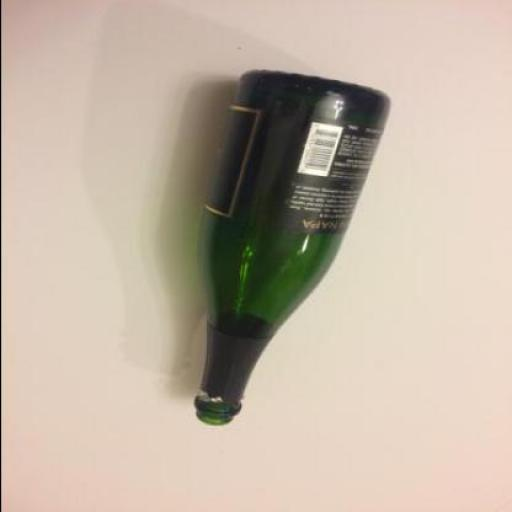glass: (192, 70, 386, 427)
